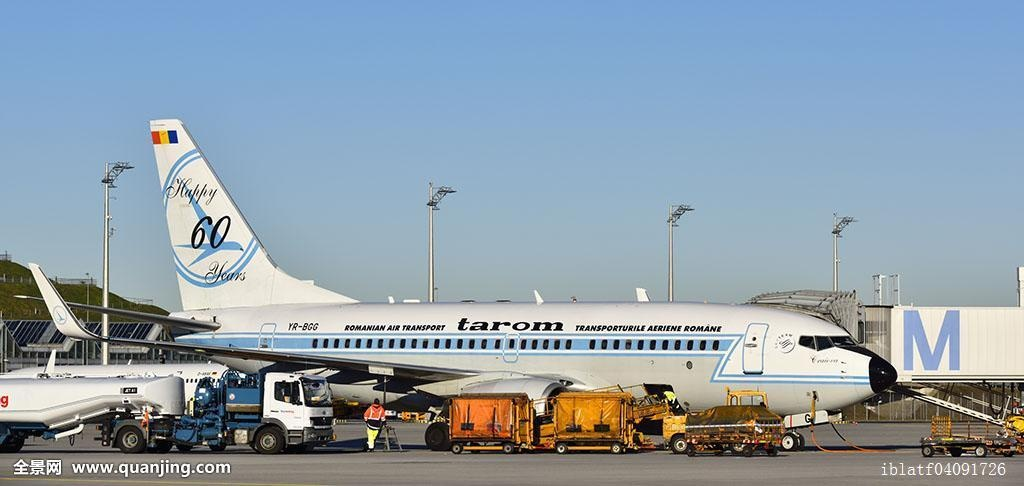airplane: (25, 99, 910, 421)
